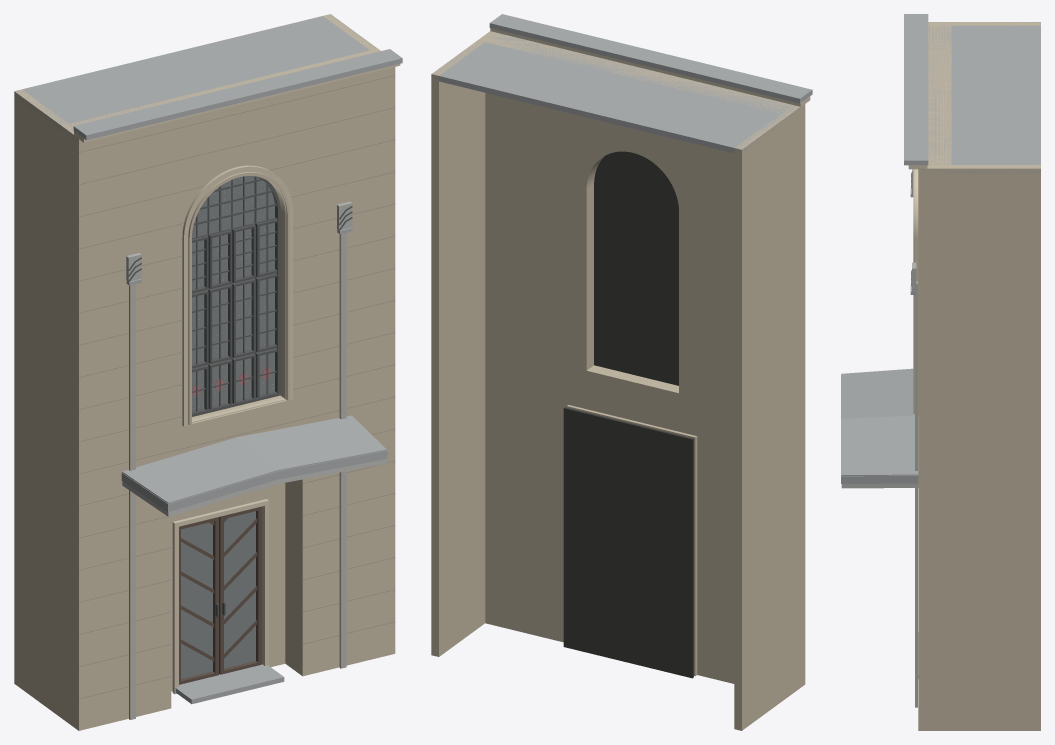
Rendered from shaoxing-9-near.glb.
3 views of the same model, side by side, from view 1: azimuth 30°, elevation 25°; view 2: azimuth 150°, elevation 25°; view 3: azimuth 270°, elevation 25° (orthographic). The views are drawn at different scales.
Parts seen in each view (by area): view 1: 爱麦虞限路9号宅绍兴路拱窗与挑篷入口; view 2: 爱麦虞限路9号宅绍兴路拱窗与挑篷入口; view 3: 爱麦虞限路9号宅绍兴路拱窗与挑篷入口.
Boxes of the visible parts, x1,y1,x2,y2 form: 爱麦虞限路9号宅绍兴路拱窗与挑篷入口: [14, 14, 402, 730]; 爱麦虞限路9号宅绍兴路拱窗与挑篷入口: [431, 14, 812, 730]; 爱麦虞限路9号宅绍兴路拱窗与挑篷入口: [841, 14, 1040, 730].
Bounding box in the file's own units: 5.74 × 10.45 × 3.31.
